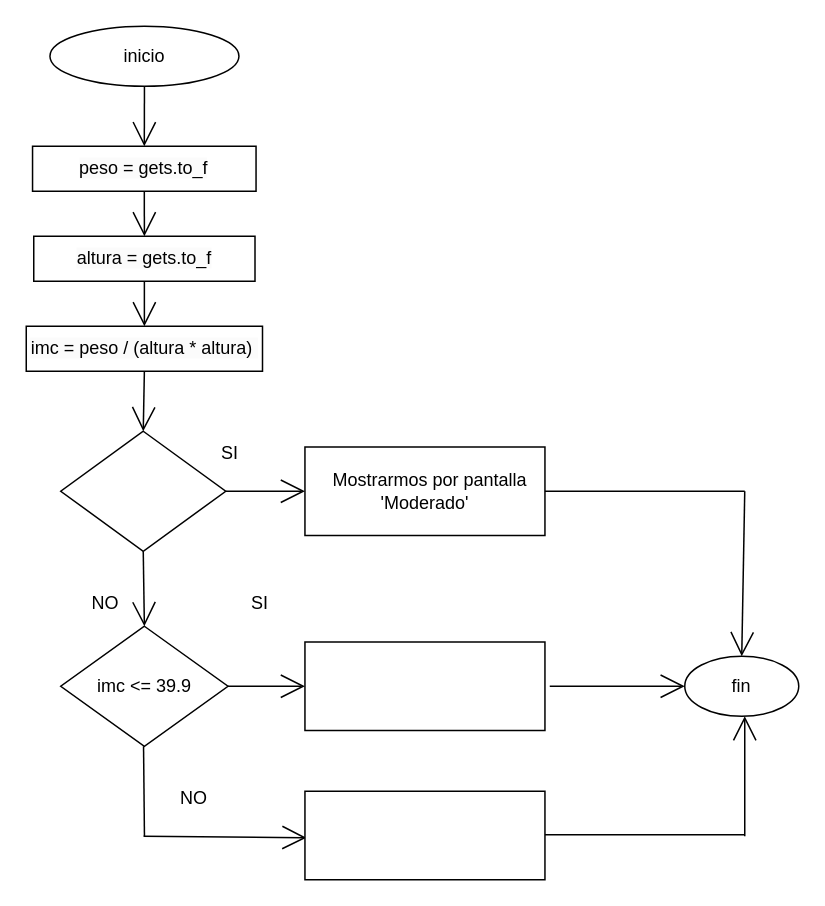
This 825x906 diagram has some shape labels left out. Here are the shapes that lost their labels. From the top down, the centre of each, then its label:
At pixel 142 490: "imc <= 34.9".
At pixel 424 685: "Mostrarmos por pantalla 'Severo'".
At pixel 424 835: "Mostrarmos por pantalla 'Muy severo'".
